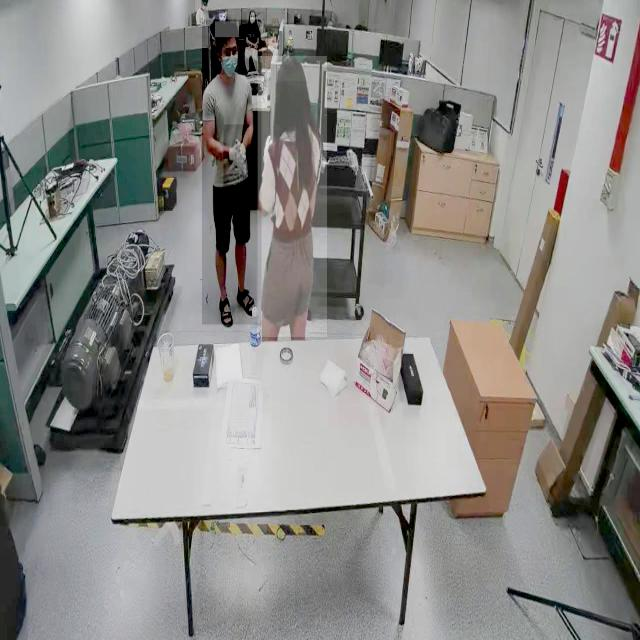face_mask: (218, 34, 242, 76)
hand_glove: (223, 124, 250, 194)
head_nohelmet: (276, 55, 307, 82), (215, 22, 239, 38), (250, 8, 256, 12)
person: (257, 56, 327, 338), (202, 19, 262, 326), (243, 11, 265, 80)
